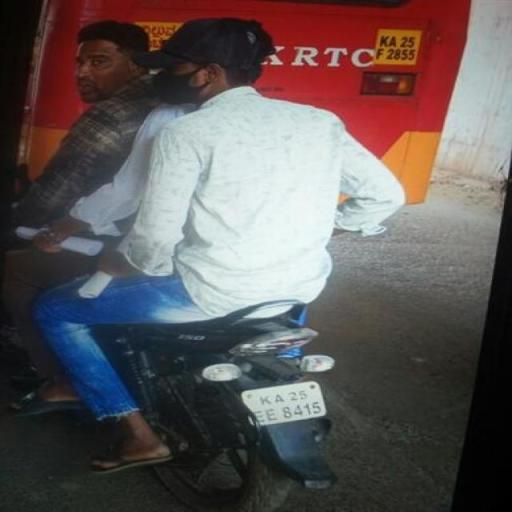tripple riding: (4, 12, 404, 300)
